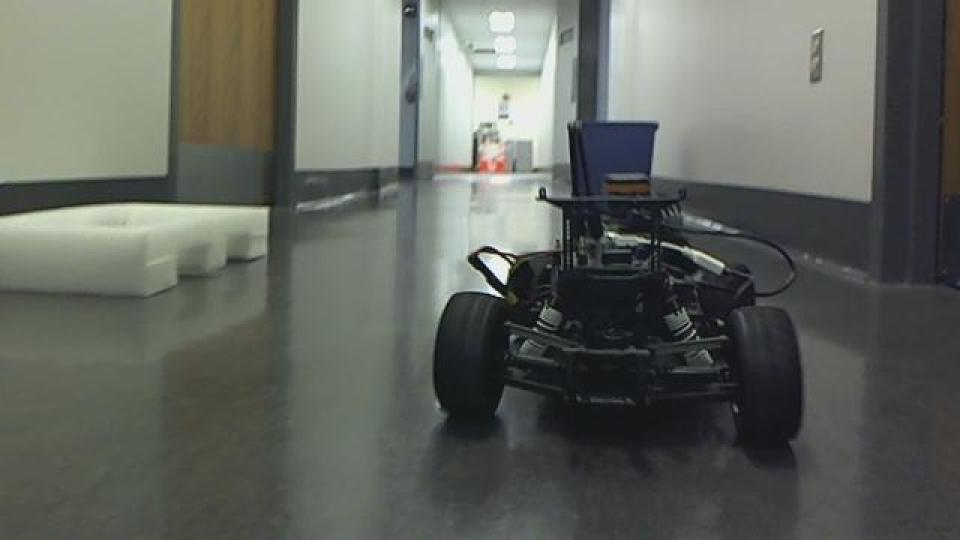car: (427, 180, 807, 448)
